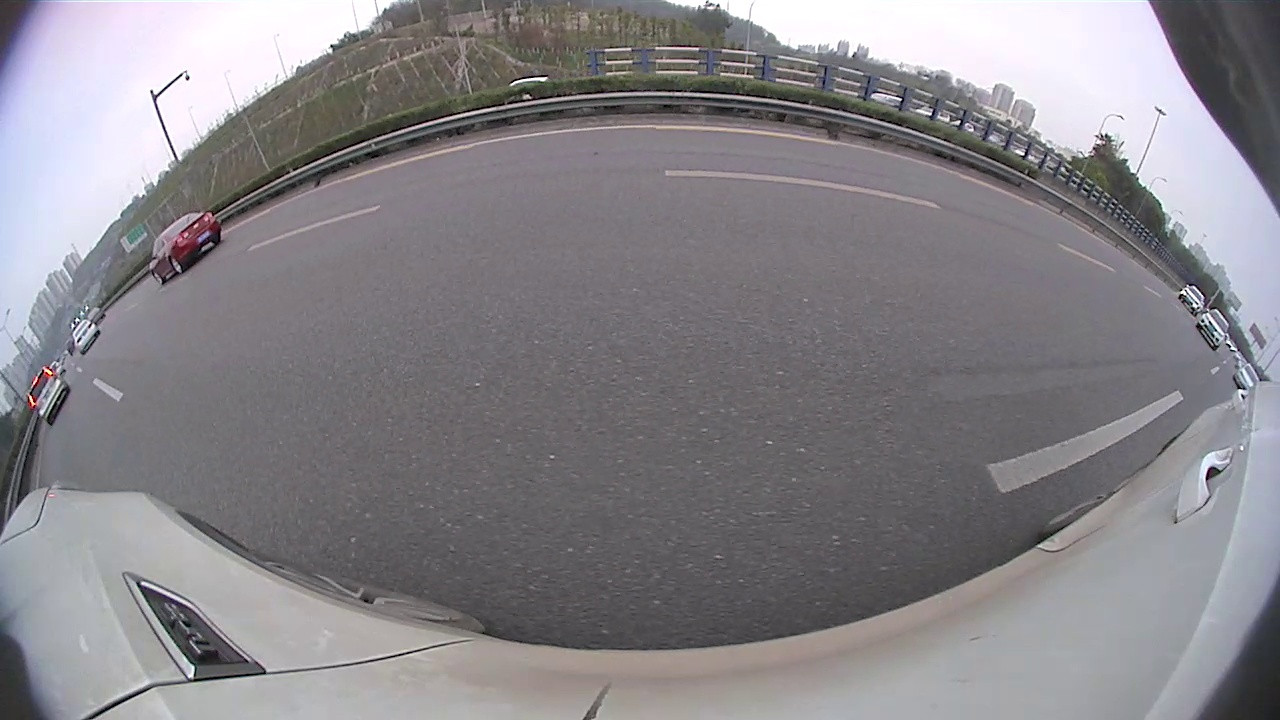bus: (865, 124, 1171, 293)
car: (1, 162, 420, 491), (587, 116, 764, 244), (765, 146, 929, 235), (1197, 340, 1278, 447), (450, 152, 559, 218), (1189, 313, 1279, 381), (545, 154, 588, 191)
front: (370, 214, 414, 280), (765, 181, 776, 208)
rear: (76, 348, 190, 481), (1007, 217, 1044, 260), (817, 192, 842, 226), (527, 184, 537, 213)
